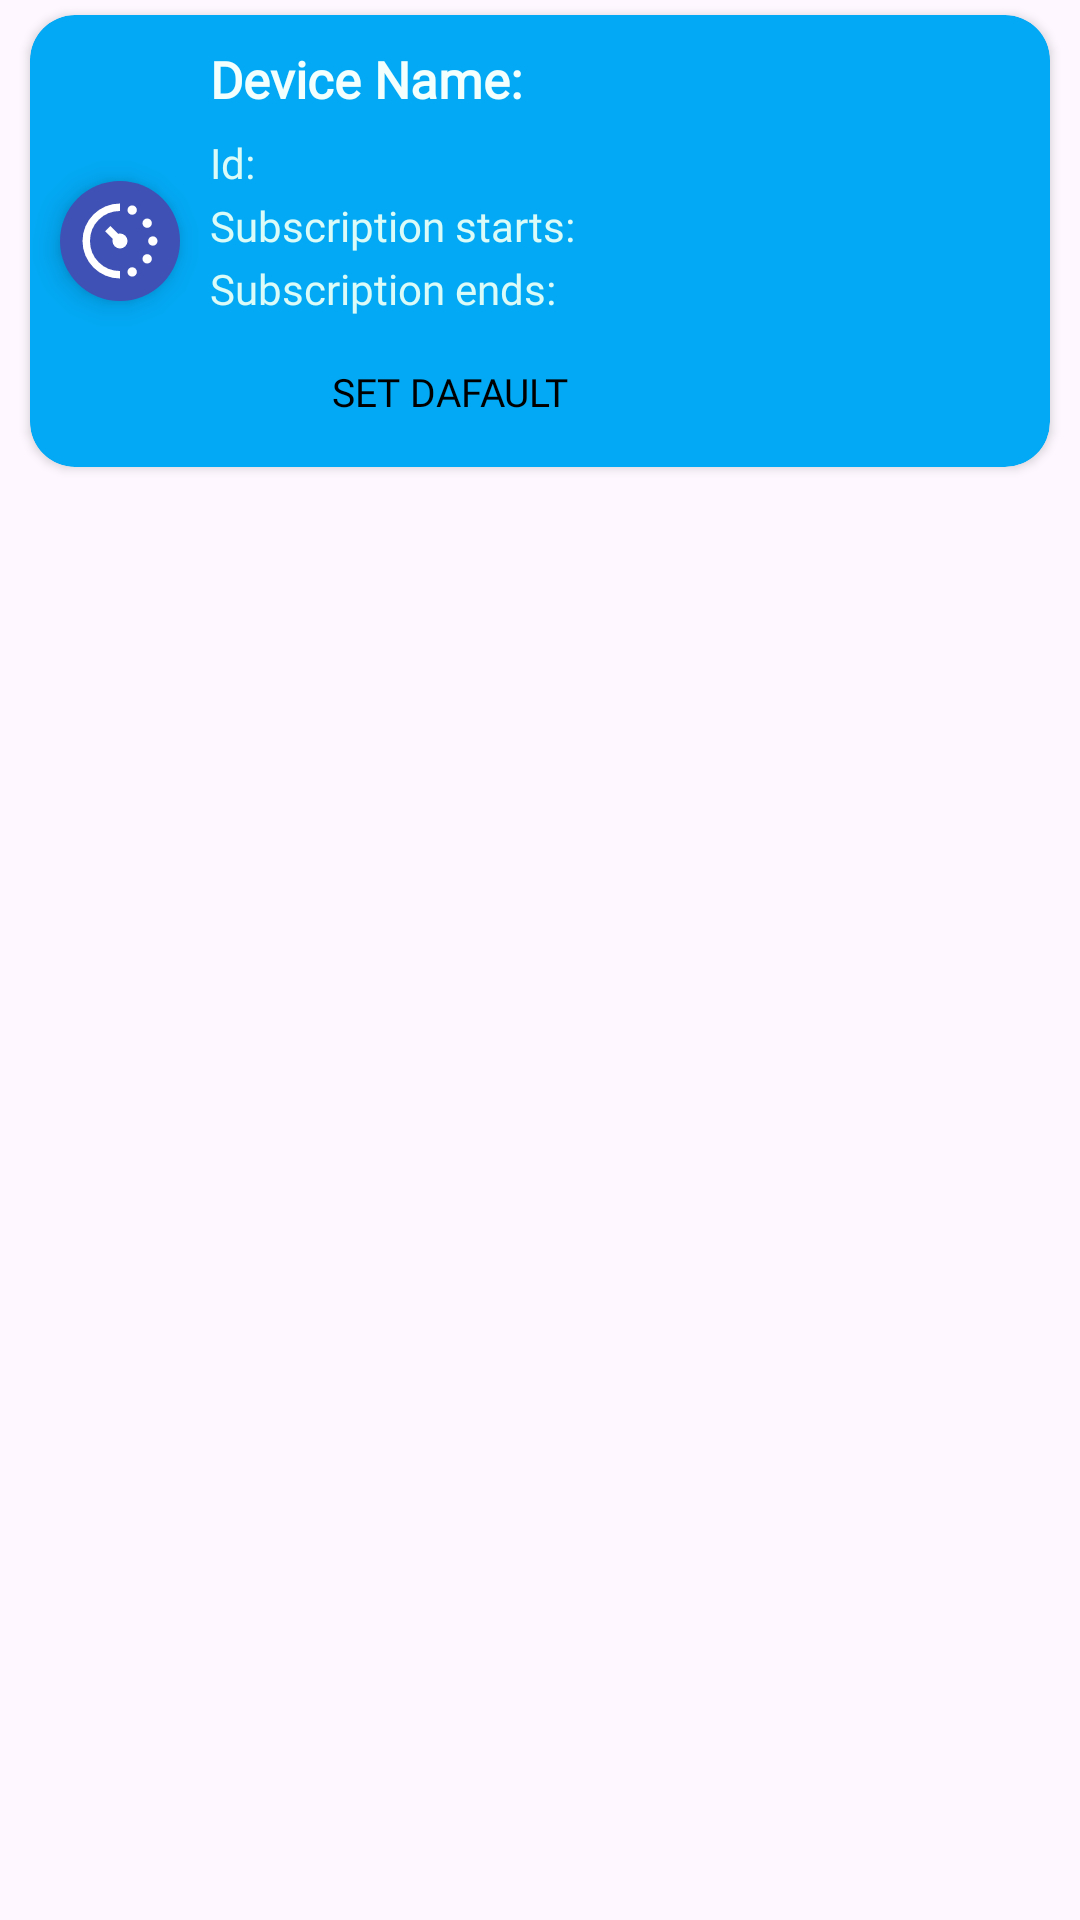

Screen size 1080x1920. Icon name, then its box in pixels as (x1, y1, x2, y2):
avg pace: (60, 181, 180, 301)
